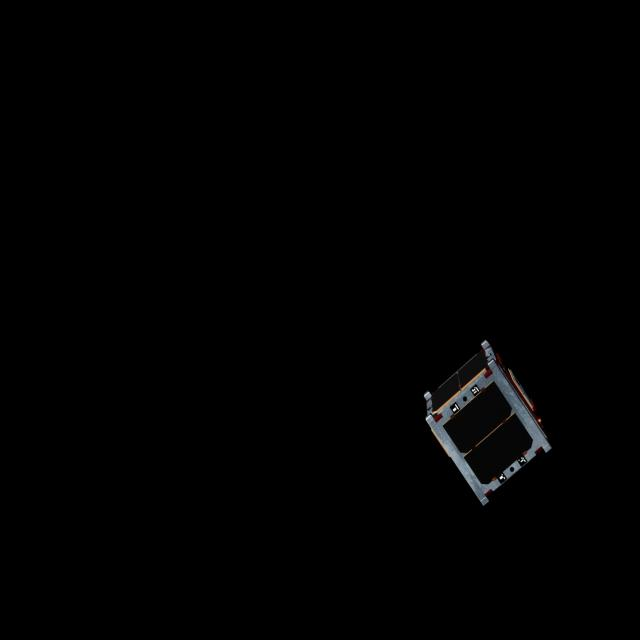medium_debris: (422, 339, 556, 517)
